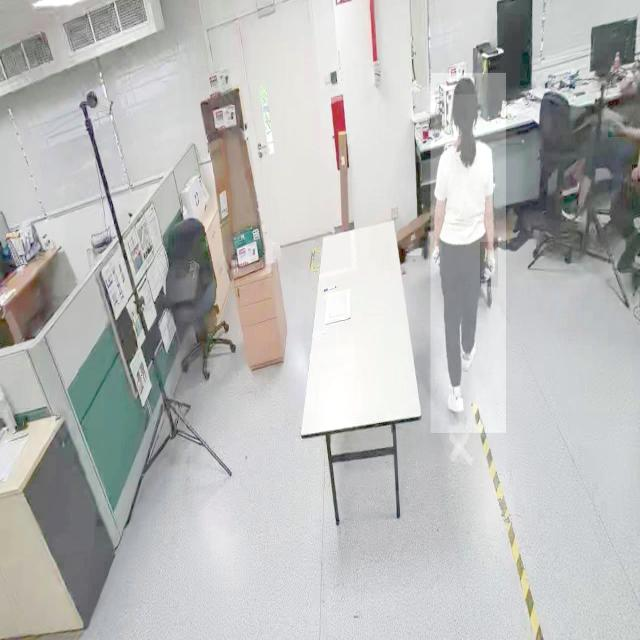hand_glove: (480, 242, 498, 288), (428, 235, 442, 268)
hand_noglove: (608, 118, 626, 138), (632, 164, 640, 182)
head_nohelmet: (453, 77, 479, 95)
person: (430, 73, 506, 434)
shoes: (458, 332, 479, 376), (444, 380, 466, 421)
